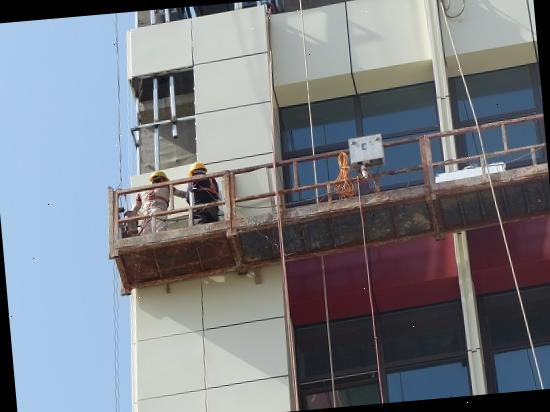helmet: (186, 162, 208, 174), (148, 170, 168, 181)
